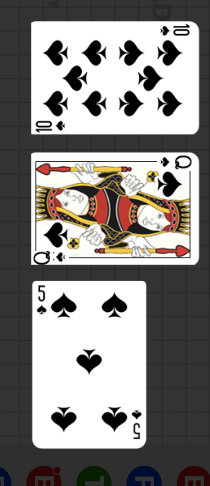10S: (157, 24, 191, 39)
5S: (130, 407, 143, 441), (35, 284, 48, 317)
